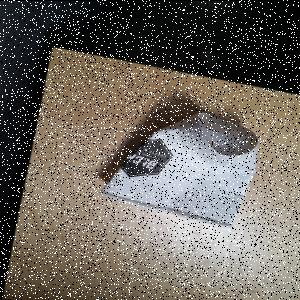Cup: (98, 111, 262, 229)
